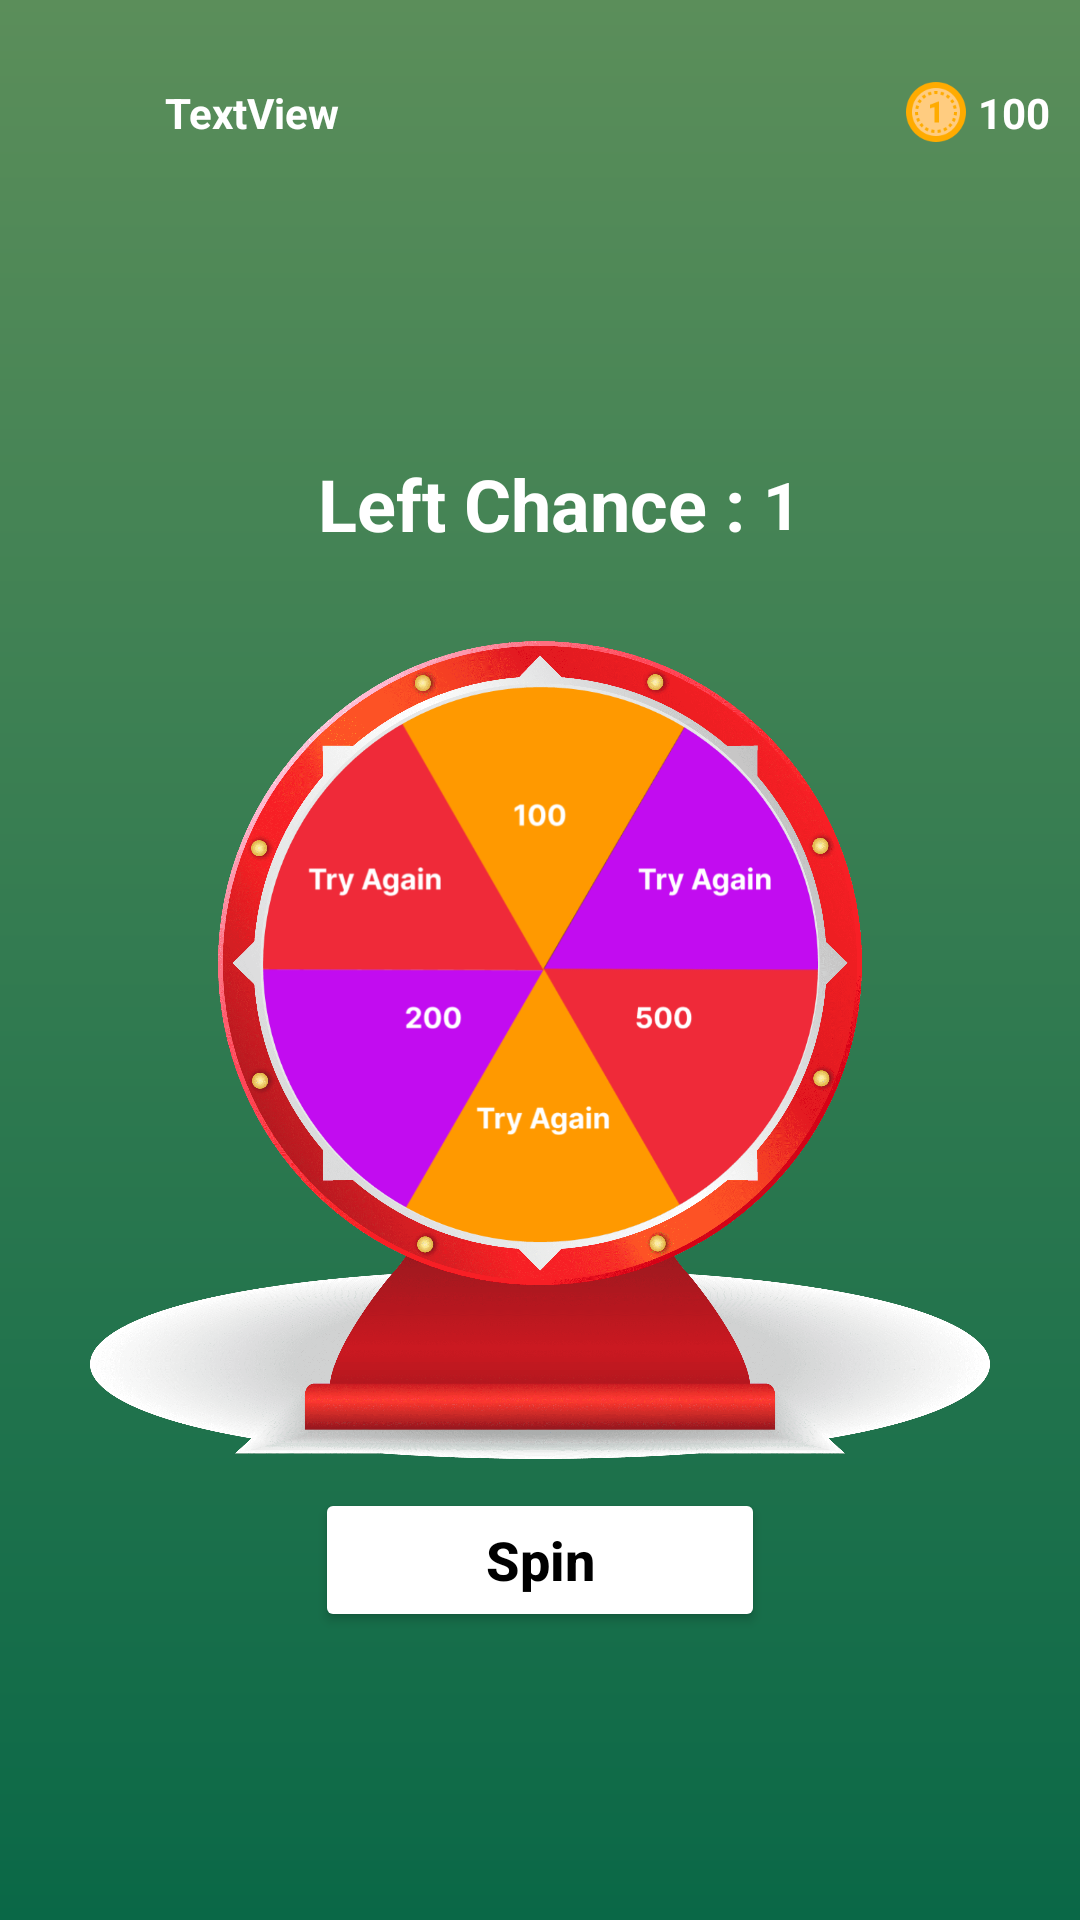

Screen size 1080w x 1920h. Icon name, then its box in pixels as bbox=(x1, y1, x2, y2):
coin: bbox=(906, 82, 966, 142)
